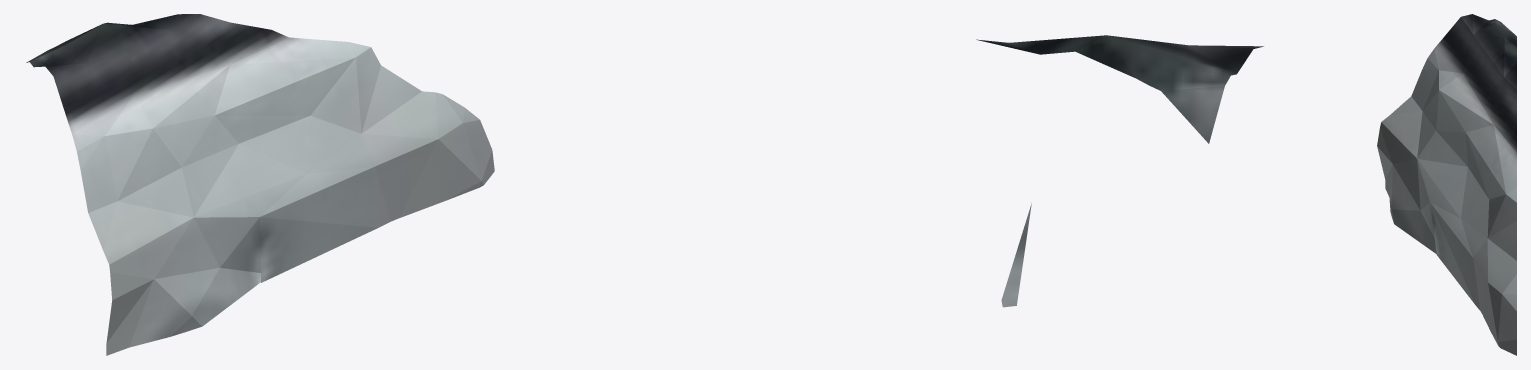
The picture shows the model from 3 angles, left to right: view 1: azimuth 30°, elevation 25°; view 2: azimuth 150°, elevation 25°; view 3: azimuth 270°, elevation 25°; orthographic projection. The views are drawn at different scales.
Size of the model in its own units: 0.2412 by 0.1206 by 0.0852.
1 material, 1 textured.
